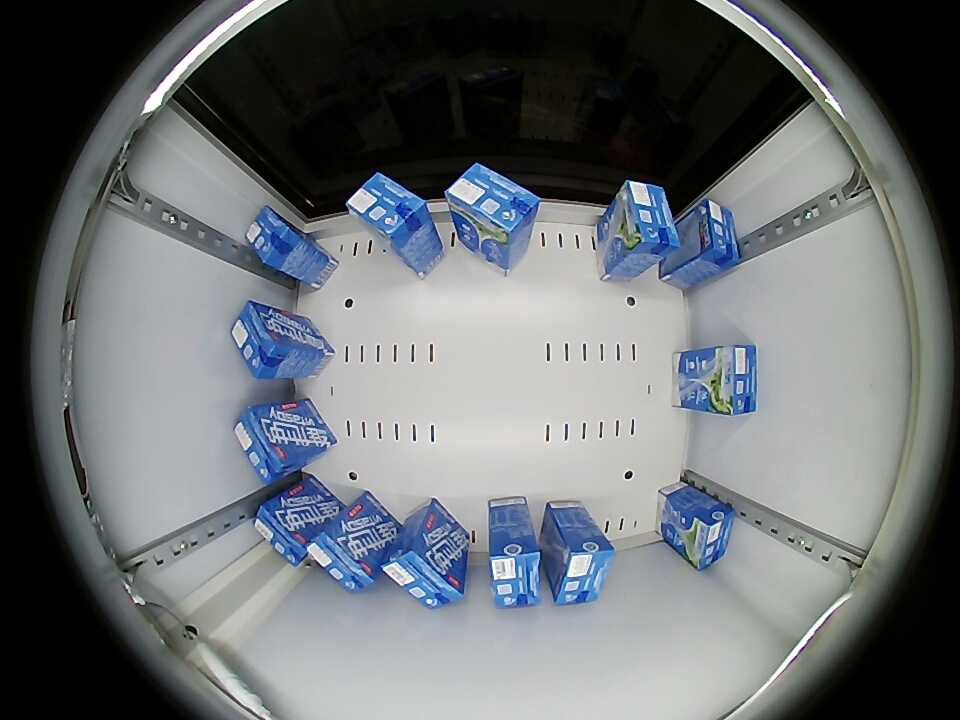weitanai: (445, 162, 541, 239), (380, 542, 465, 609), (346, 172, 428, 241), (612, 180, 680, 262), (234, 404, 300, 485), (305, 524, 379, 592), (551, 530, 615, 606), (231, 300, 291, 379), (253, 497, 312, 567), (678, 499, 736, 569), (701, 344, 757, 416), (489, 536, 542, 606), (690, 199, 740, 272), (246, 207, 303, 270)
